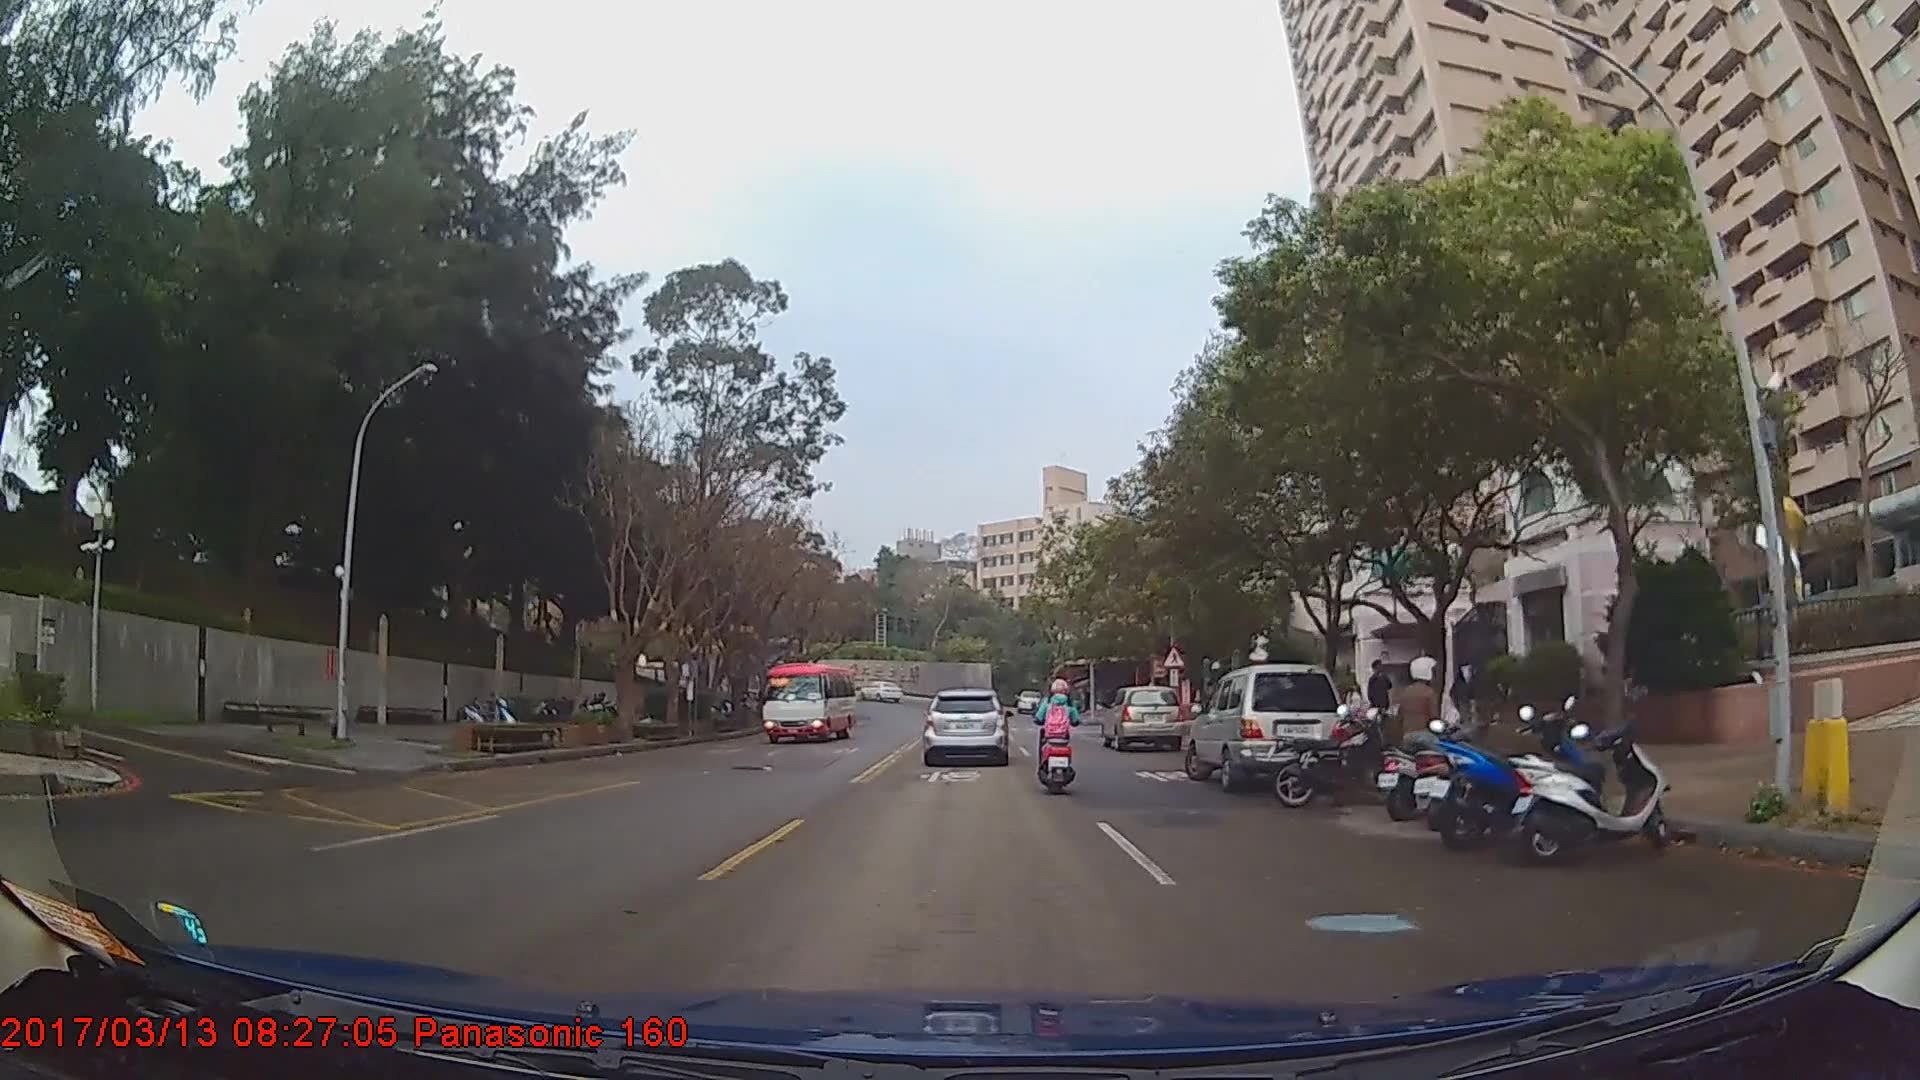pedestrian: (1370, 658, 1396, 732)
rider: (1378, 657, 1469, 815), (1033, 669, 1087, 798)
vehicle: (1185, 661, 1349, 789), (762, 660, 856, 743), (921, 684, 1009, 763), (1101, 684, 1184, 751), (856, 676, 904, 702)
